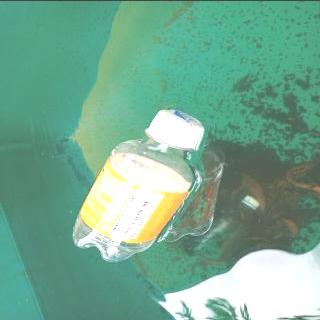bottle: (72, 108, 206, 261)
